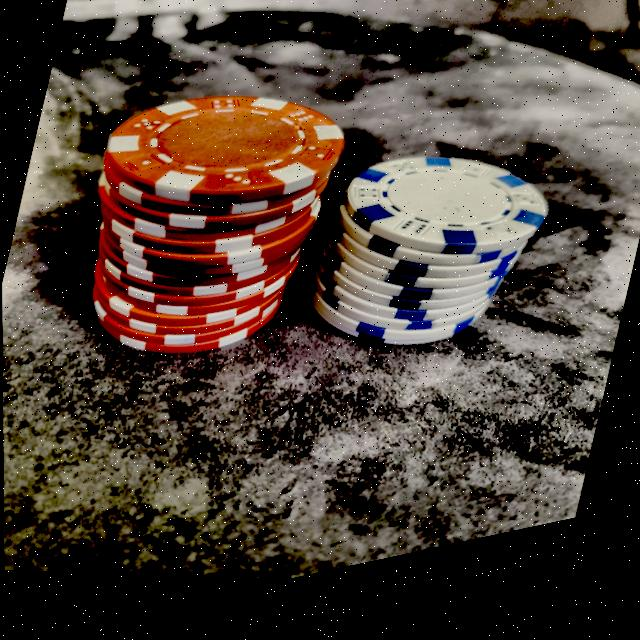Chip: (56, 33, 373, 409), (279, 94, 581, 436)
